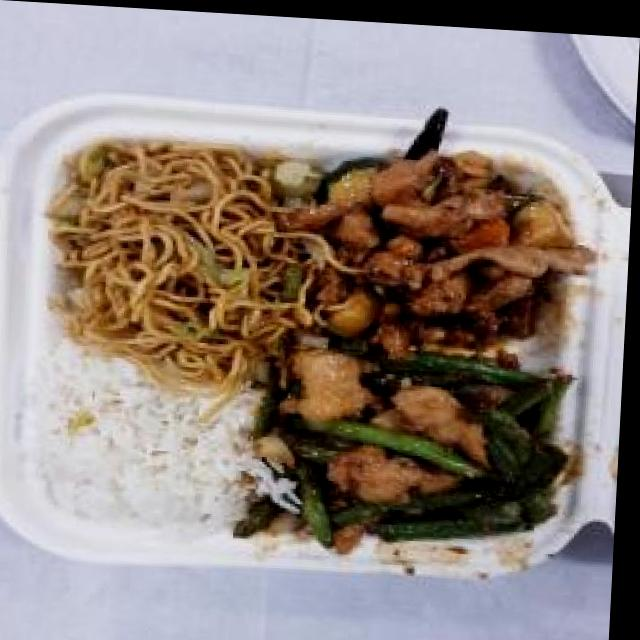Chow Mein: (41, 126, 325, 361)
Kung Pao Chicken: (300, 135, 593, 356)
String Bean Chicken Breast: (256, 326, 588, 556)
White Steamed Rice: (39, 353, 271, 528)
